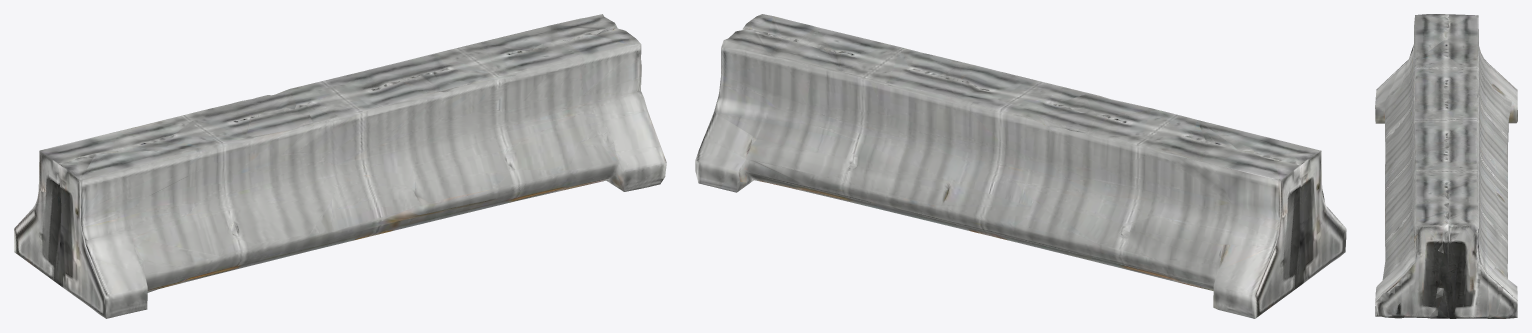
The model's file is barricade.glb.
3 views of the same model, side by side, from view 1: azimuth 30°, elevation 25°; view 2: azimuth 150°, elevation 25°; view 3: azimuth 270°, elevation 25° (orthographic). The views are drawn at different scales.
Size of the model in its own units: 0.0959 by 0.02 by 0.0274.
Materials: 1 (1 with a texture image).
